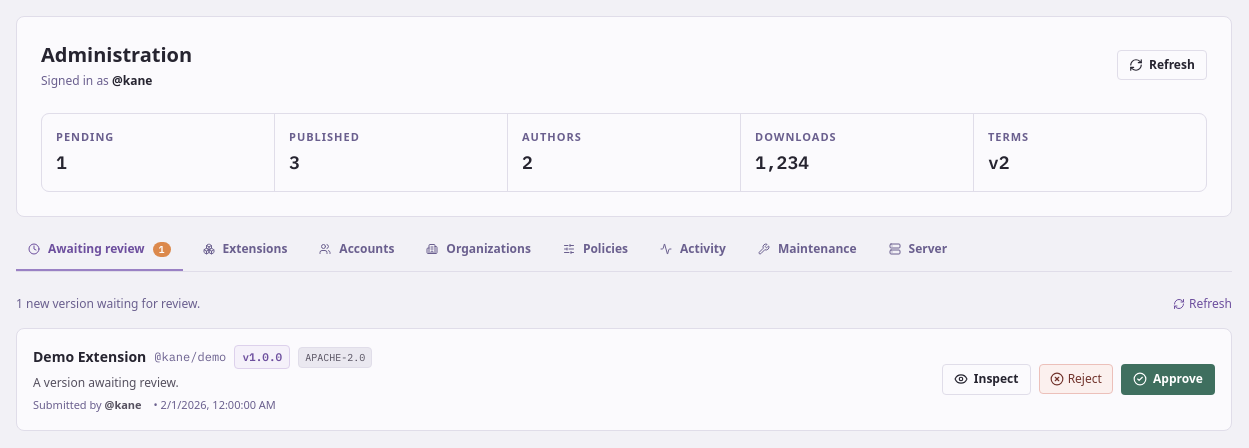
AdminPage › keeps organizations off the accounts tab
Click the button "Accounts": (357, 256) [307,241,406,271]
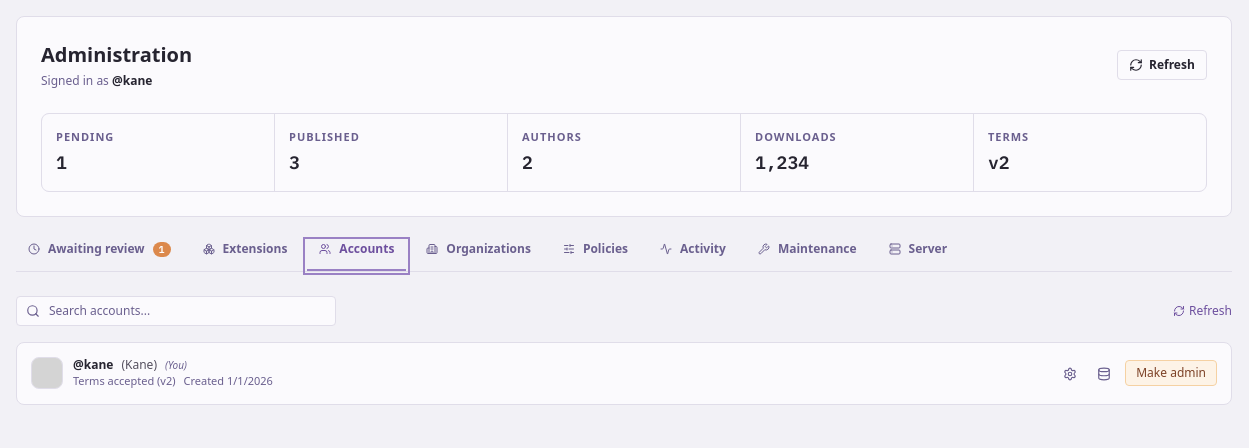
Now the text "@kane" in the row of "(You)" is shown, box [73,357,113,373]
